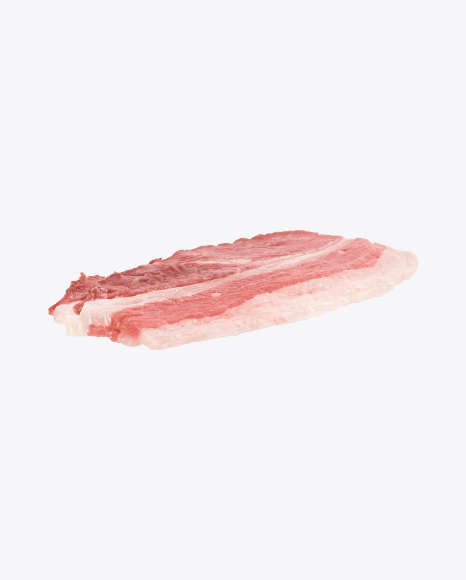bacon: (54, 189, 402, 375)
